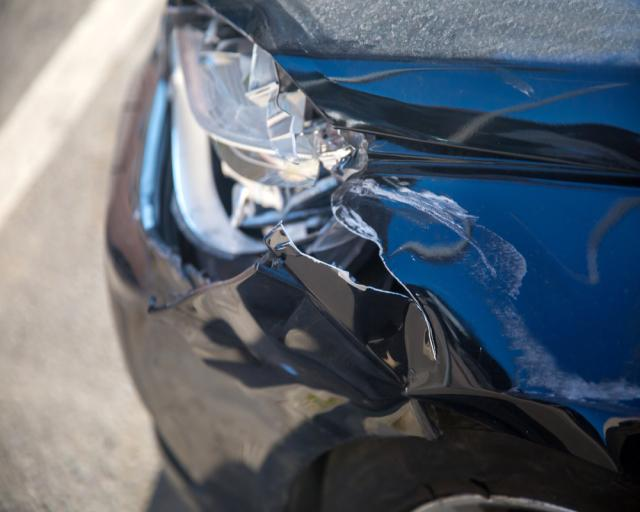crack: (281, 194, 439, 357)
dent: (243, 241, 434, 417)
lamp broken: (171, 10, 354, 226)
scratch: (348, 177, 640, 427)
